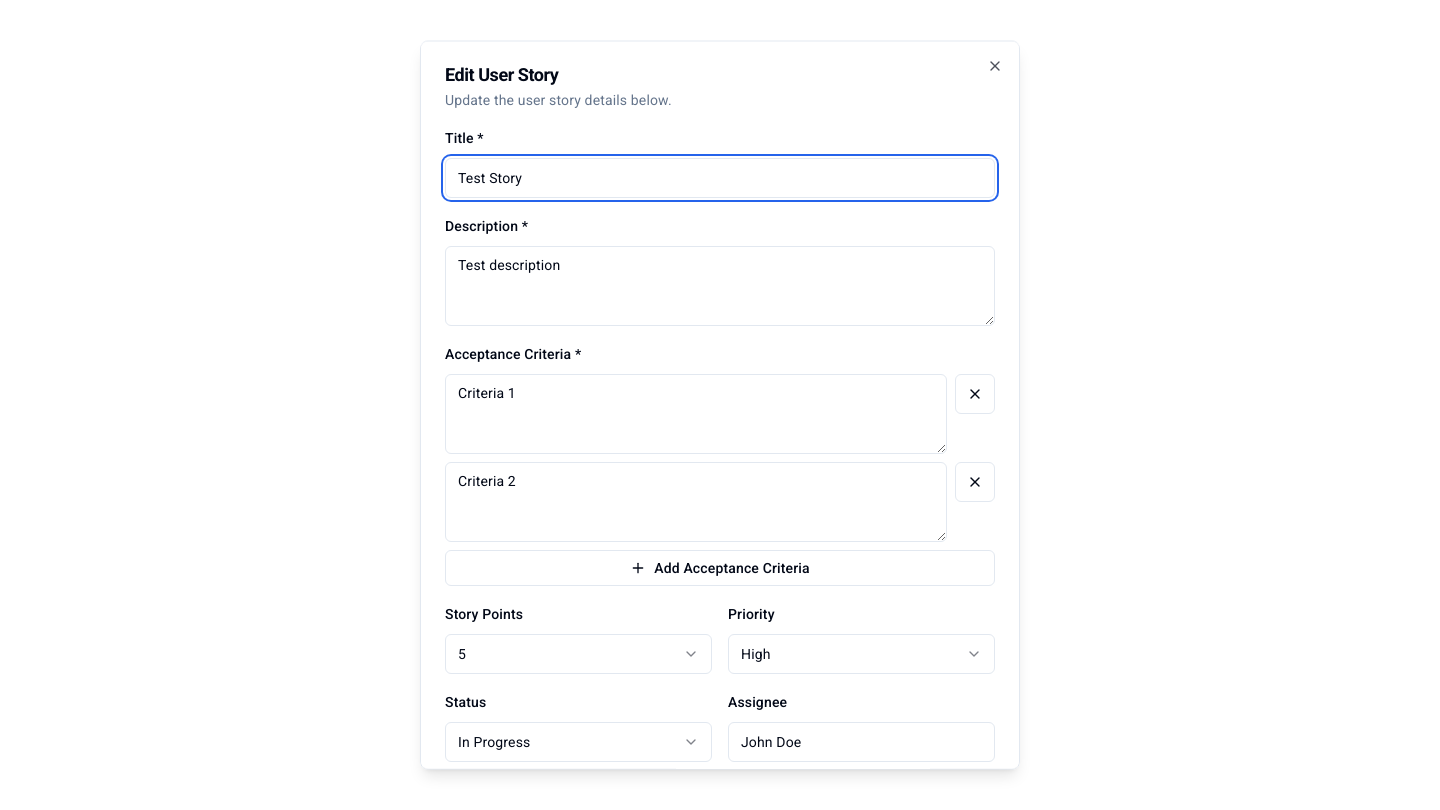
Test: UserStoryForm › removes acceptance criteria correctly
Expected: the number of text boxes with placeholder "WHEN [condition] THEN [expected result]" is 2, [445,374,947,454]; [445,462,947,542]
Click the 2nd button at [975, 394], box [955,374,995,414]
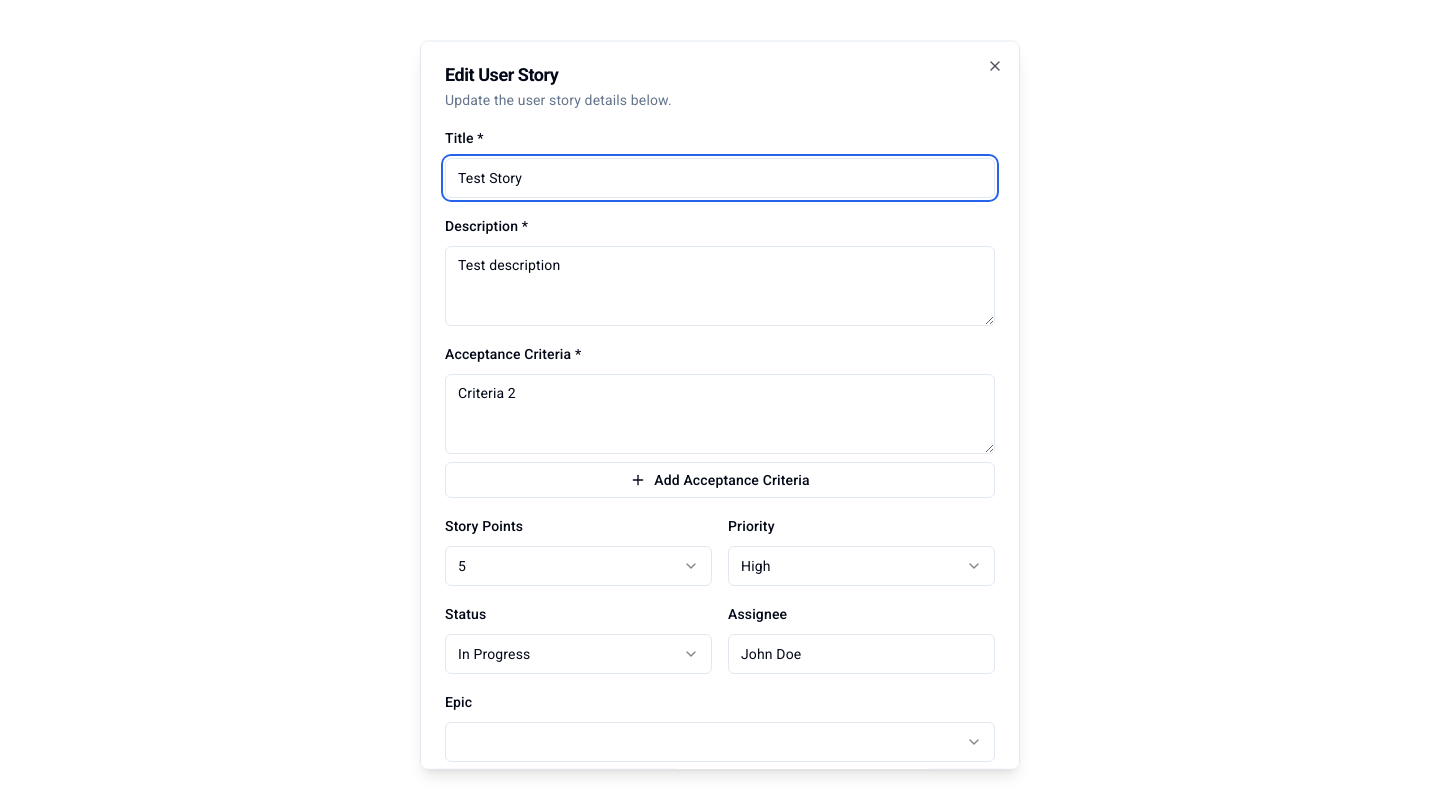
Expected: the number of text boxes with placeholder "WHEN [condition] THEN [expected result]" is 1, [445,374,995,454]
